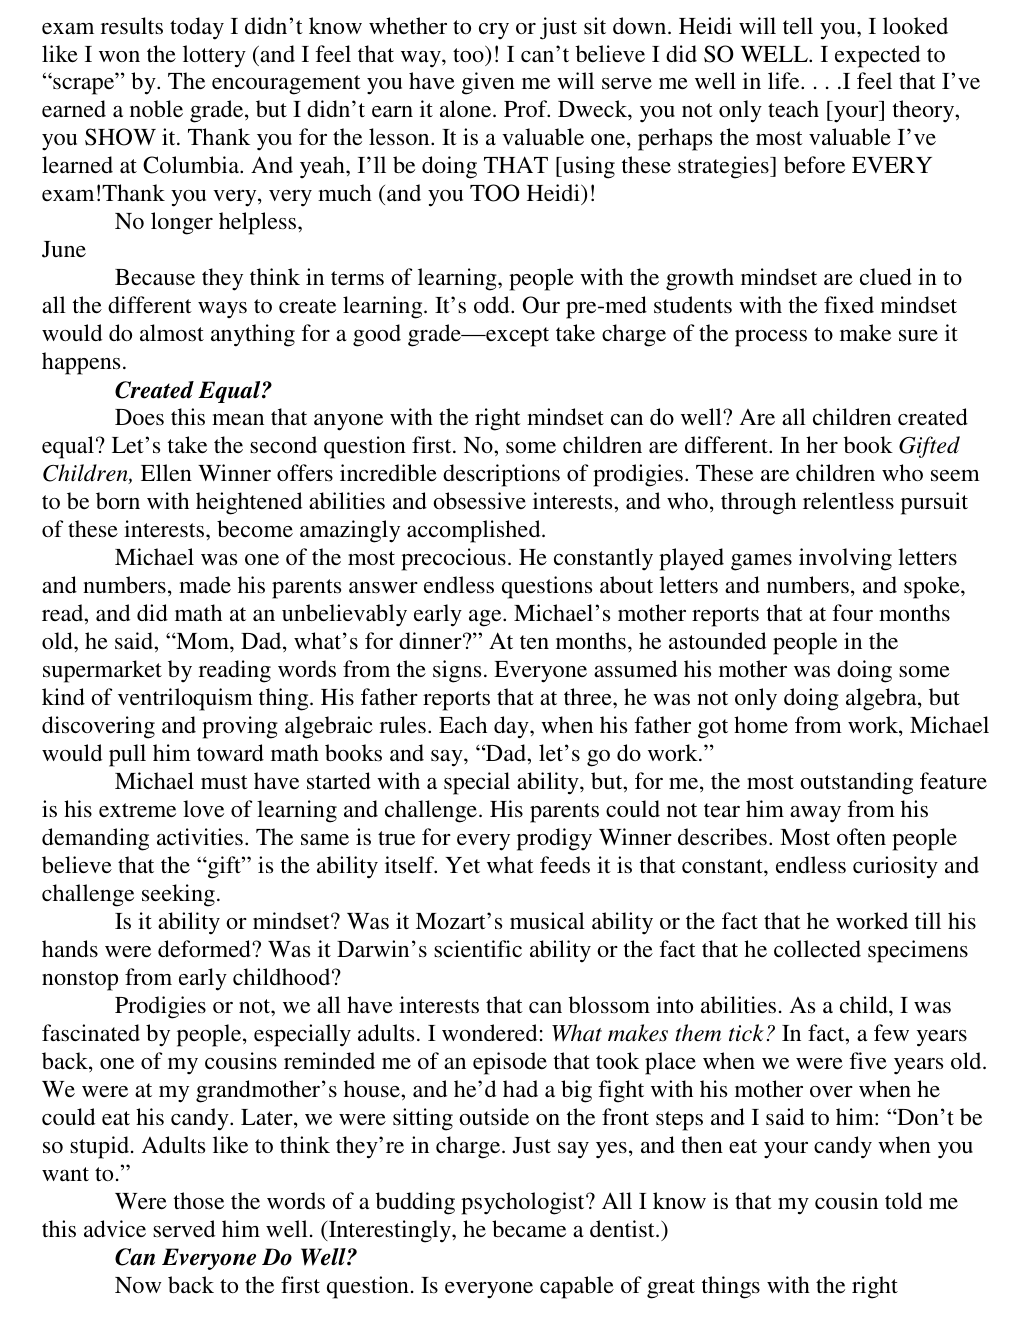latin: (34, 910, 994, 1187), (35, 541, 988, 774), (38, 15, 981, 233), (28, 774, 986, 910), (38, 404, 983, 541), (25, 1187, 958, 1302), (35, 263, 964, 375), (112, 375, 272, 406), (41, 234, 87, 261)
